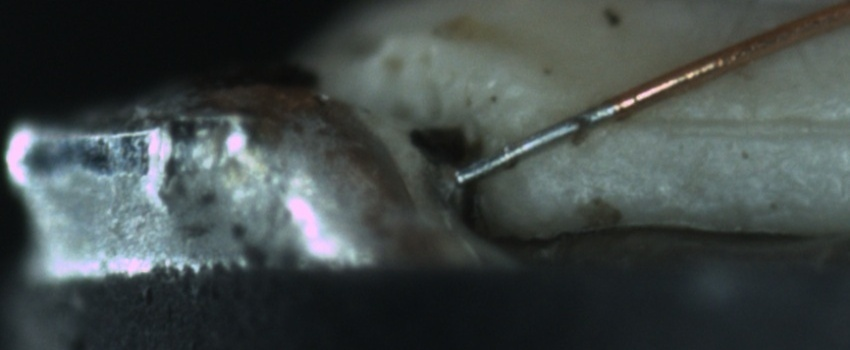DL: (615, 88, 848, 160)
TS: (451, 101, 618, 186)
